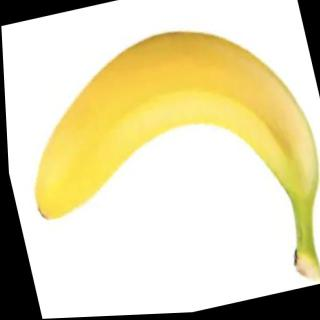banana: (0, 6, 320, 262)
